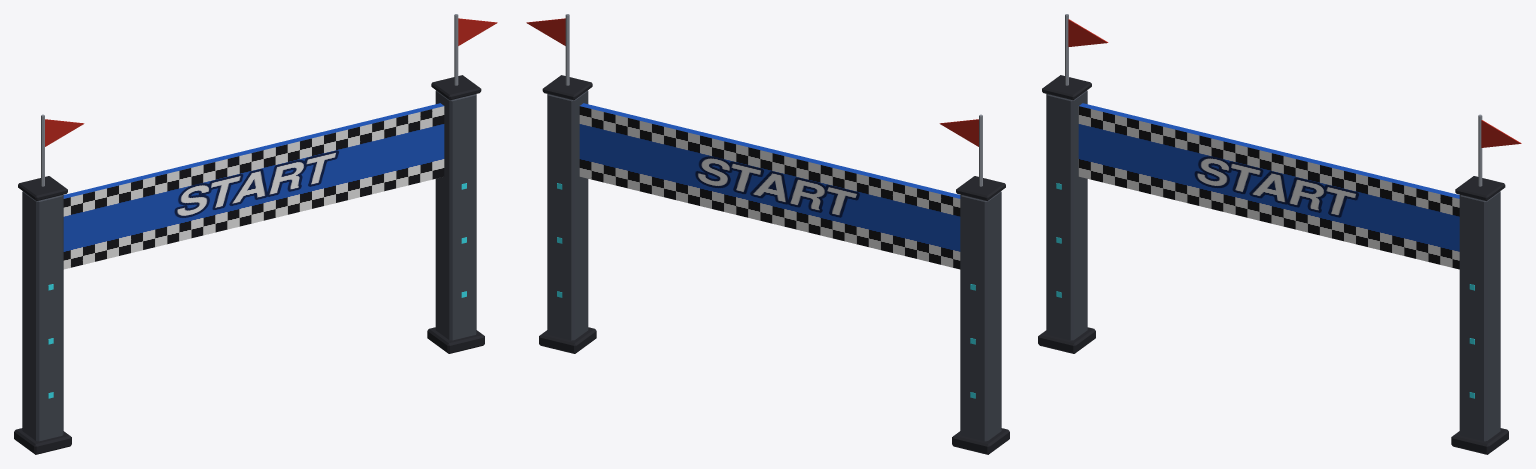
Rendered from gate_start.obj.
3 renders of one model, left to right at view 1: azimuth 30°, elevation 25°; view 2: azimuth 150°, elevation 25°; view 3: azimuth 330°, elevation 25°, orthographic.
Parts seen in each view (by area): view 1: gate_start_gate_start_banner, gate_start_Main; view 2: gate_start_gate_start_banner, gate_start_Main; view 3: gate_start_gate_start_banner, gate_start_Main.
Part boxes in pixels (x1,y1,x2,y2): gate_start_gate_start_banner: (63, 103, 444, 269); gate_start_Main: (14, 14, 497, 454); gate_start_gate_start_banner: (579, 103, 960, 269); gate_start_Main: (526, 14, 1009, 454); gate_start_gate_start_banner: (1078, 103, 1459, 269); gate_start_Main: (1038, 14, 1521, 454).
Size of the model in its own units: 27.5 by 18.2 by 2.2.
2 materials, 2 textured.
